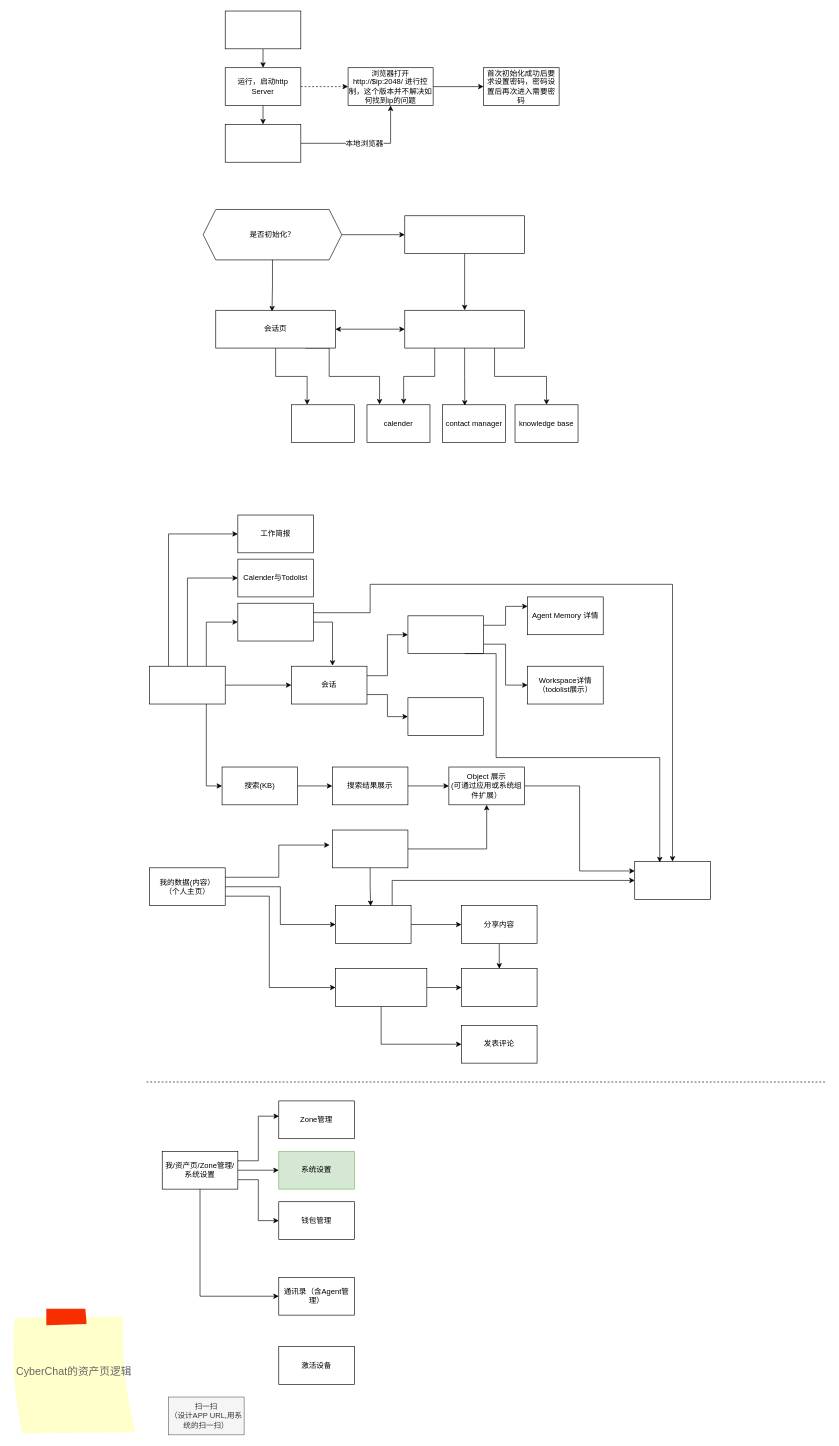
Some shapes in this 839 by 1446 pixel diagram are drawn without their labels. Each missing label, with the box of its shape:
Agent详情页: (407, 615, 484, 654)
Home Page （会话页列表）: (404, 310, 524, 348)
Init: (404, 215, 524, 254)
Post（新建/发布内容）: (335, 905, 411, 943)
todolist: (291, 404, 354, 443)
VortexOSAI Desktop 启动: (225, 10, 301, 49)
会话列表 (我的Workspace): (149, 666, 225, 704)
会话详情页: (407, 697, 484, 736)
内容展示: (461, 968, 537, 1006)
如有桌面环境，则启动拓扑图标控制: (225, 124, 301, 162)
应用（Agent）商店: (634, 861, 710, 899)
新建会话: (237, 603, 313, 641)
浏览Feeds (可让AI帮忙筛选和排序）: (335, 968, 427, 1006)
浏览KB: (332, 829, 408, 868)
